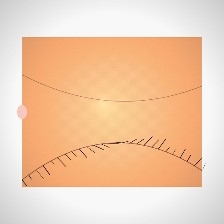corneal_ulcer: (85, 88, 146, 137)
